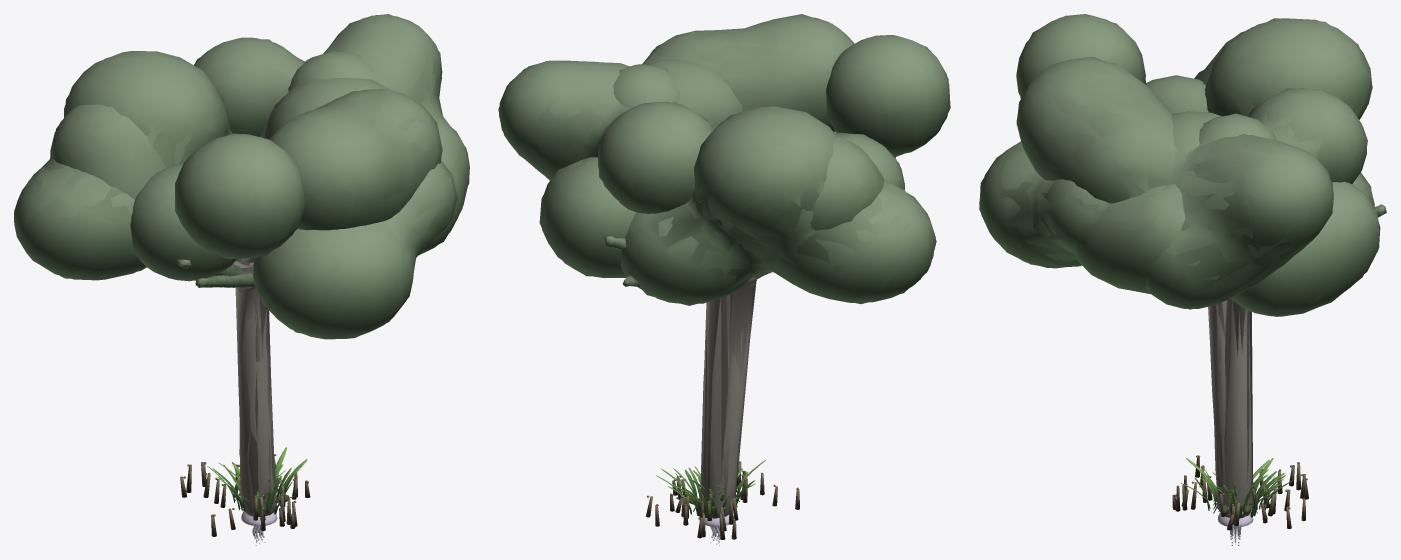
Rendered from seagrass_cosy.glb.
3 renders of one model, left to right at view 1: azimuth 30°, elevation 25°; view 2: azimuth 150°, elevation 25°; view 3: azimuth 270°, elevation 25°, orthographic. The views are drawn at different scales.
Parts seen in each view (by area): view 1: mangrove_1, mangrove_2, mangrove_0, mangrove_1_lo, mangrove_2_lo, mangrove_0_lo, pneumato_1, pneumato_0, zostera_1; view 2: mangrove_1, mangrove_2, mangrove_0, mangrove_1_lo, mangrove_2_lo, mangrove_0_lo, pneumato_0, pneumato_1, zostera_1; view 3: mangrove_2, mangrove_0, mangrove_2_lo, mangrove_1, mangrove_1_lo, mangrove_0_lo, pneumato_1, pneumato_0, zostera_1, zostera_0.
Part boxes in pixels (left/top/right/bottom): mangrove_1: left=14, top=51, right=457, bottom=516; mangrove_2: left=130, top=15, right=469, bottom=516; mangrove_0: left=50, top=50, right=469, bottom=427; mangrove_1_lo: left=14, top=51, right=456, bottom=514; mangrove_2_lo: left=131, top=14, right=469, bottom=516; mangrove_0_lo: left=50, top=50, right=469, bottom=443; pneumato_1: left=180, top=462, right=310, bottom=536; pneumato_0: left=202, top=454, right=297, bottom=530; zostera_1: left=212, top=447, right=307, bottom=513; mangrove_1: left=620, top=59, right=935, bottom=518; mangrove_2: left=499, top=16, right=904, bottom=501; mangrove_0: left=541, top=35, right=950, bottom=277; mangrove_1_lo: left=620, top=60, right=936, bottom=515; mangrove_2_lo: left=498, top=14, right=904, bottom=510; mangrove_0_lo: left=539, top=37, right=950, bottom=277; pneumato_0: left=646, top=461, right=777, bottom=538; pneumato_1: left=672, top=470, right=799, bottom=539; zostera_1: left=656, top=467, right=755, bottom=517; mangrove_2: left=1016, top=57, right=1386, bottom=517; mangrove_0: left=1016, top=14, right=1379, bottom=436; mangrove_2_lo: left=1016, top=57, right=1380, bottom=517; mangrove_1: left=979, top=18, right=1374, bottom=518; mangrove_1_lo: left=979, top=18, right=1372, bottom=516; mangrove_0_lo: left=1019, top=16, right=1380, bottom=445; pneumato_1: left=1172, top=455, right=1305, bottom=530; pneumato_0: left=1175, top=465, right=1308, bottom=528; zostera_1: left=1204, top=469, right=1284, bottom=518; zostera_0: left=1181, top=460, right=1286, bottom=515.
Size of the model in its own units: 5.4 by 5.93 by 4.58.
